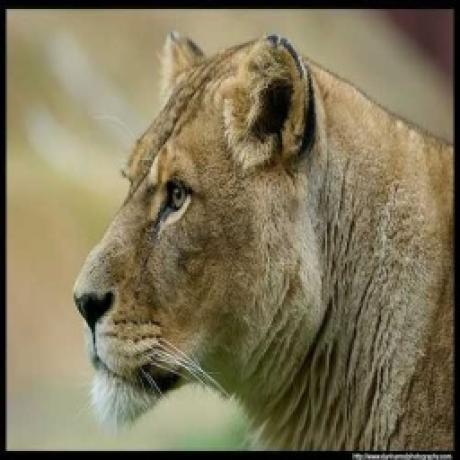Lion: (66, 25, 454, 450)
